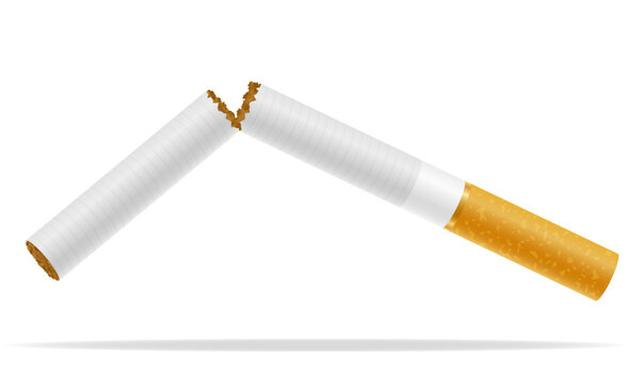Cigarette: (25, 79, 619, 302)
